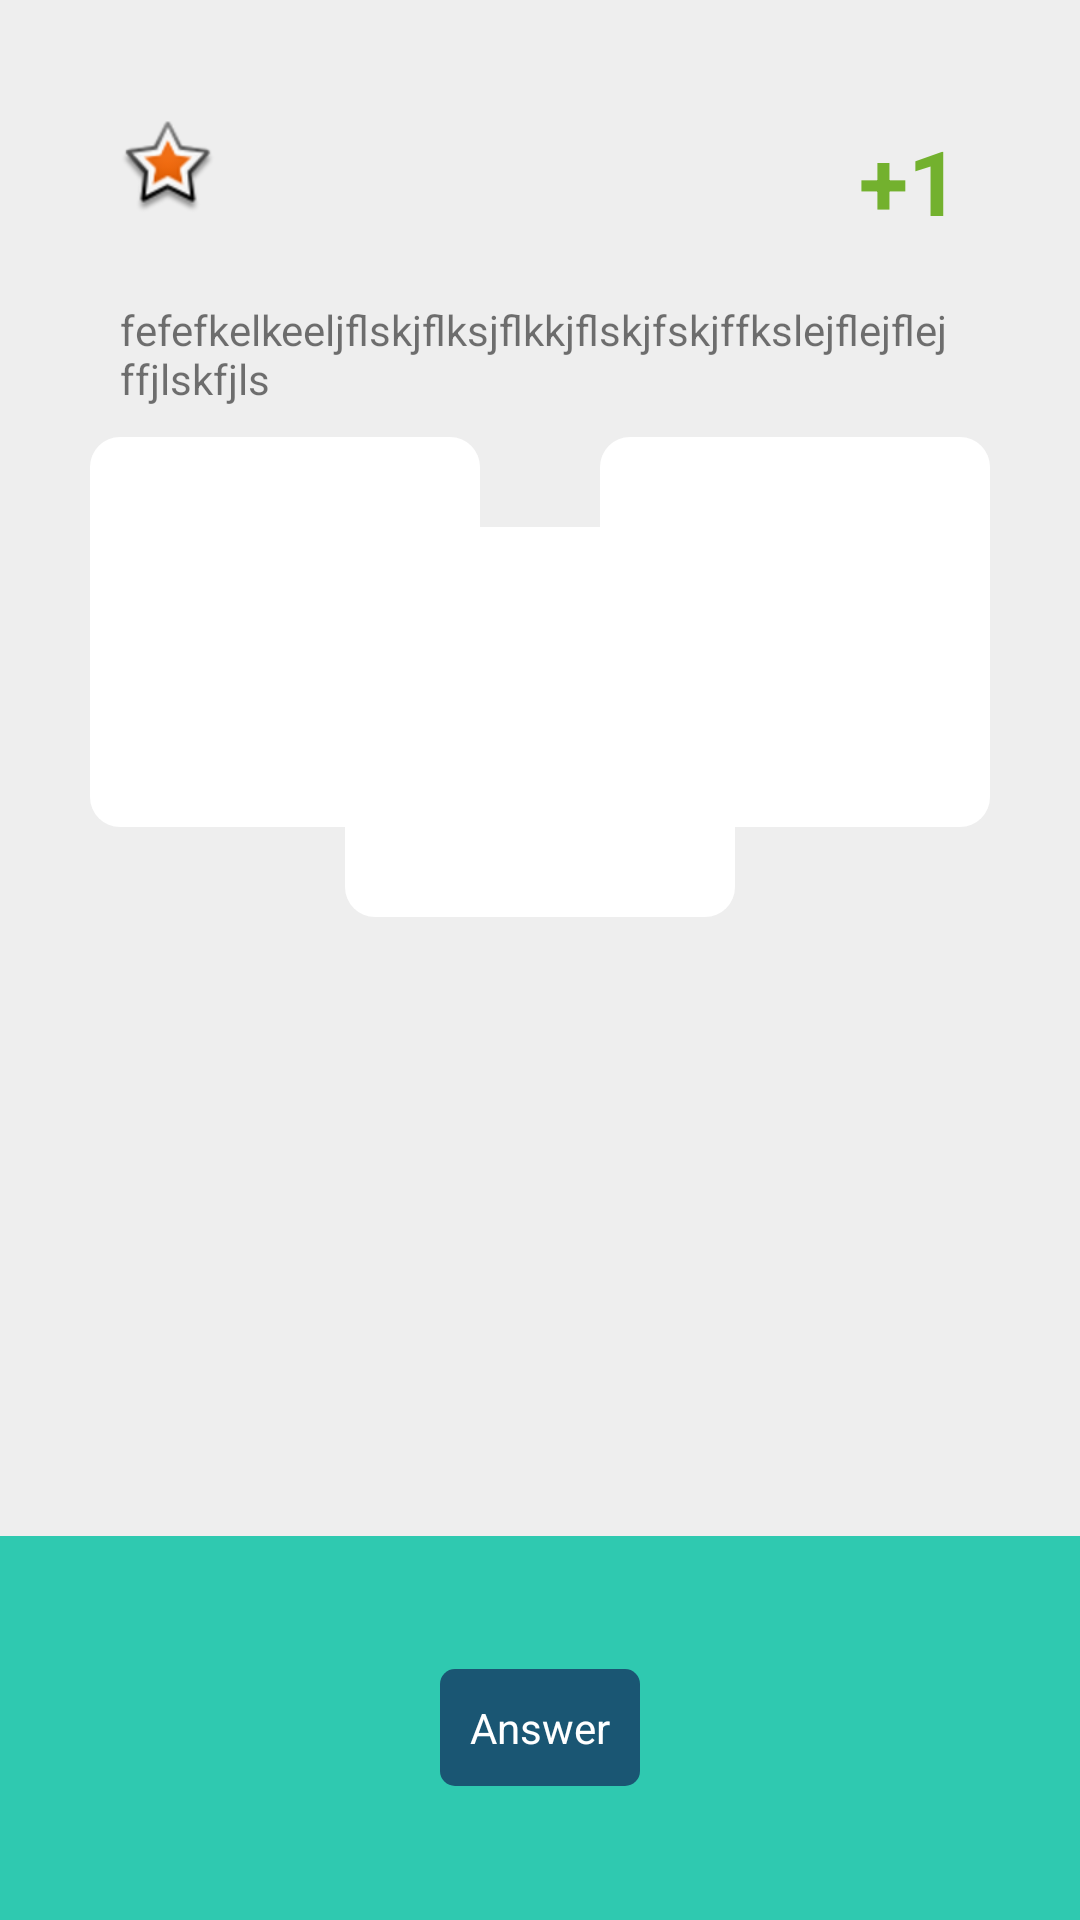

Screen size 1080px x 1920px. Icon name, then its center in pixels as point (x, y):
star on: point (167, 164)
